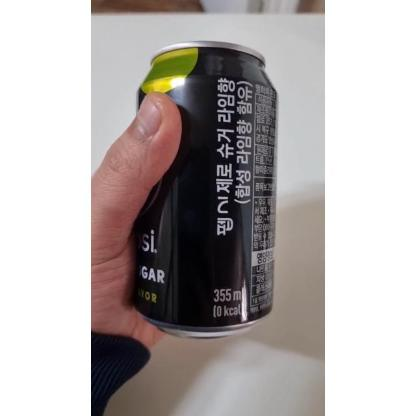Can: (130, 42, 280, 340)
